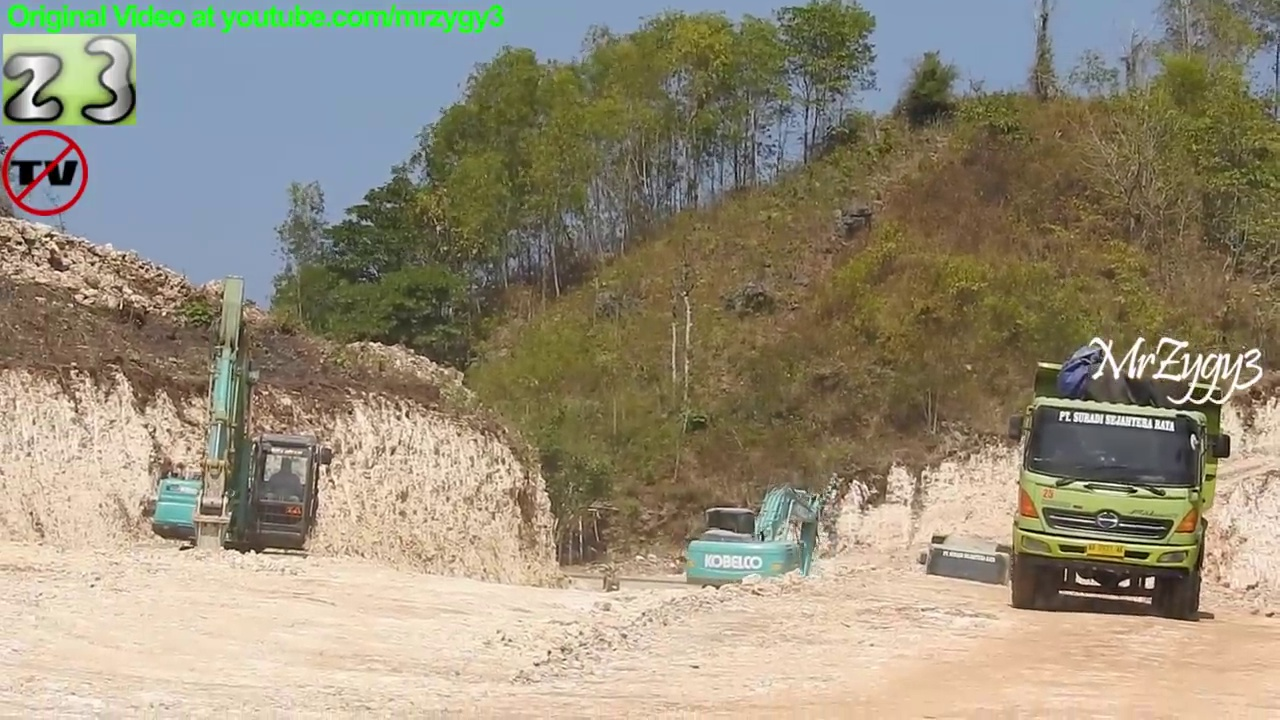excavator: (146, 271, 341, 602), (681, 482, 824, 621)
truck: (1003, 355, 1237, 628), (913, 528, 1023, 638)
